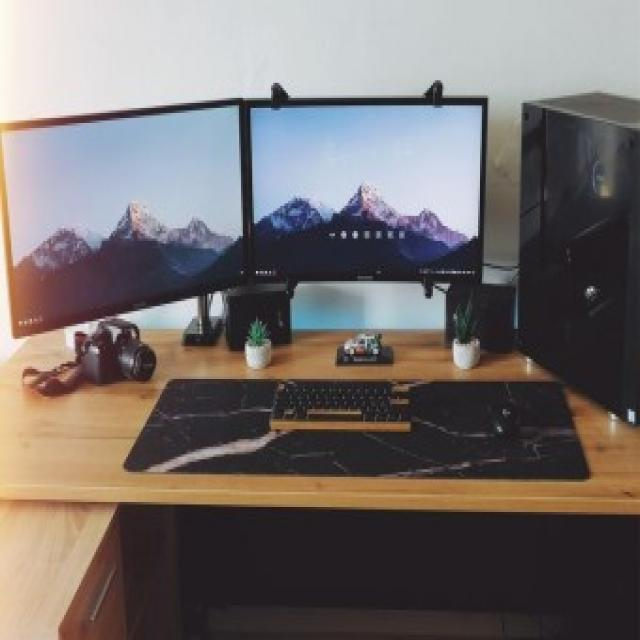Computer: (514, 81, 640, 442)
Monitor: (0, 102, 248, 336), (240, 94, 490, 285)
